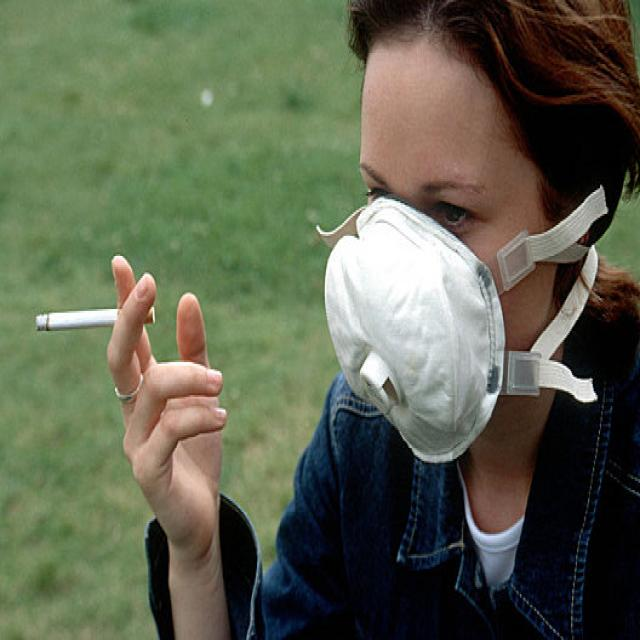smoke: (33, 298, 157, 338)
